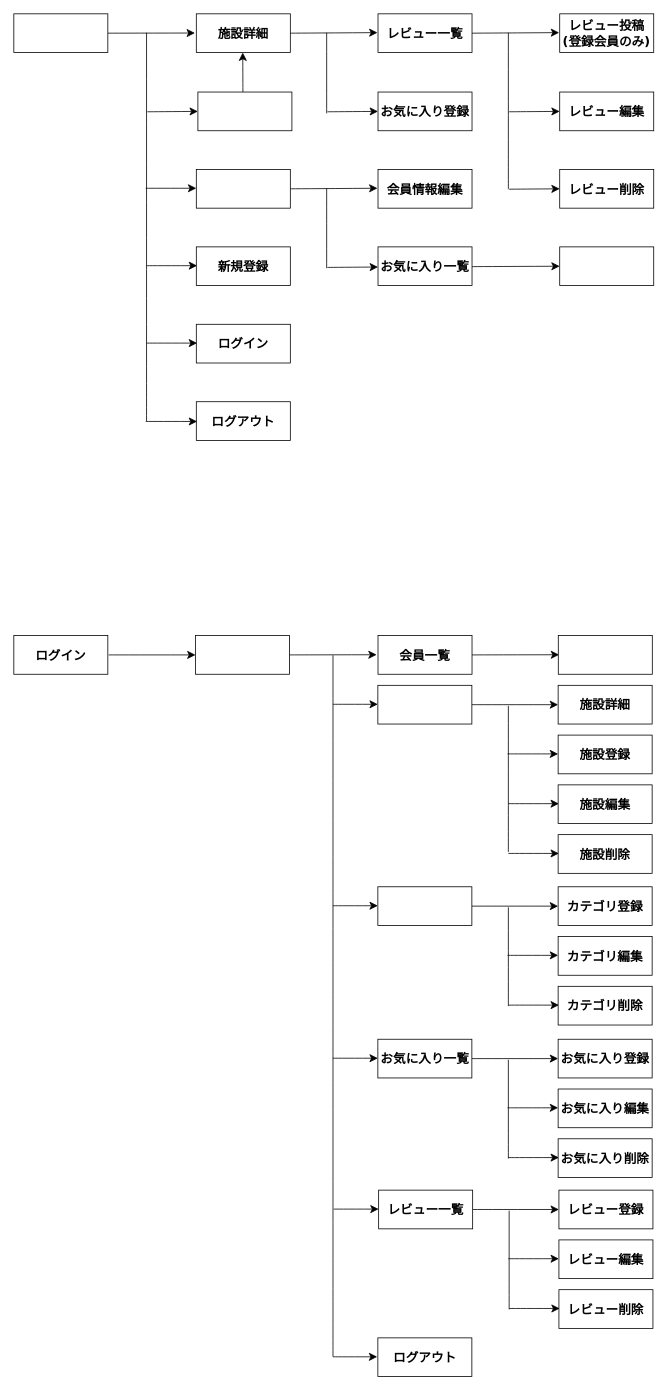
This 668x1390 diagram has some shape labels left out. The centre of each missing label's shape, as x and y in pixels:
お気に入り解除: the point at 606,266
カテゴリ一覧: the point at 424,905
トップページ: the point at 60,33
マイページ: the point at 243,188
会員詳細: the point at 605,654
施設一覧: the point at 424,704
検索結果: the point at 244,111
管理画面: the point at 242,654
